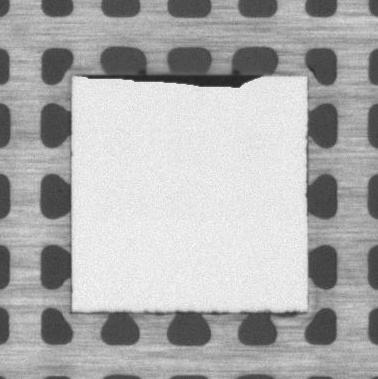DIE_BROKEN: (80, 70, 263, 91)
